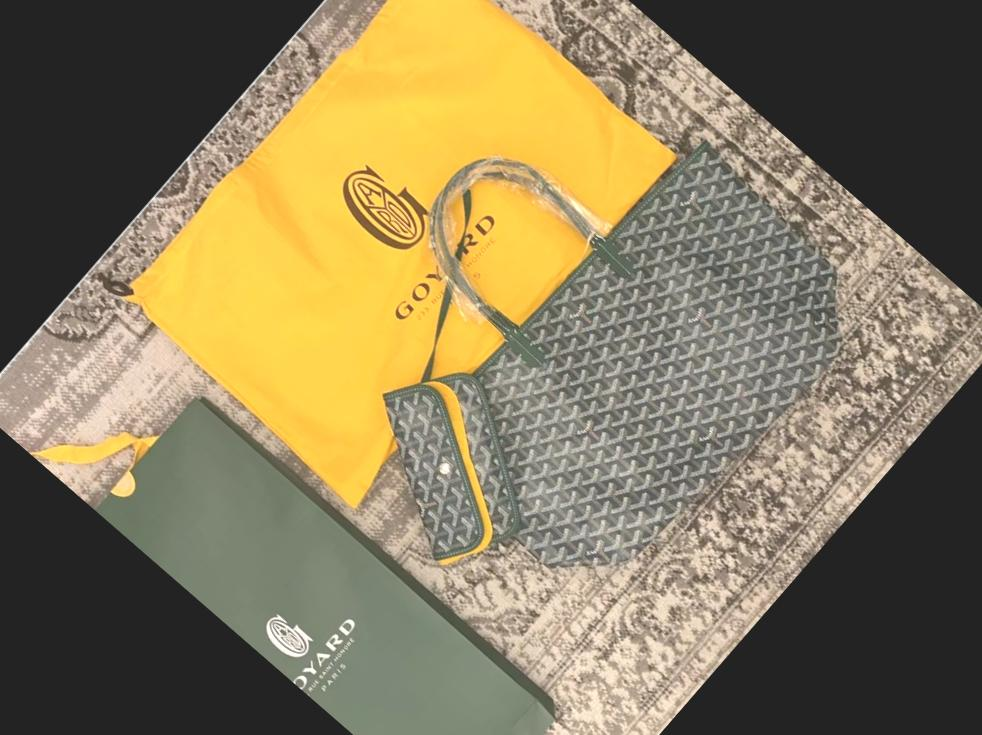GOYARD: (416, 136, 882, 618), (326, 343, 568, 582)
